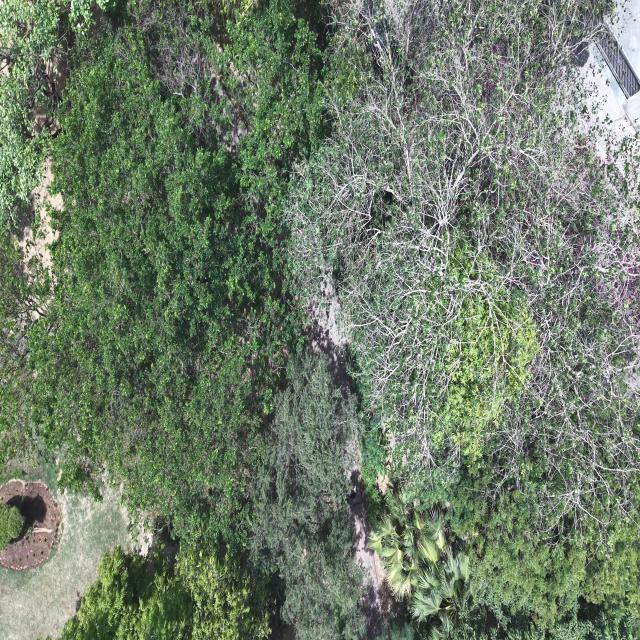DRY_AREA: (0, 467, 144, 639), (0, 468, 141, 639), (348, 467, 391, 639), (348, 468, 388, 639), (0, 479, 59, 570)
VEGETATION_TREE: (0, 0, 639, 639), (289, 0, 639, 629), (3, 2, 324, 637), (291, 3, 637, 533), (30, 7, 298, 536), (31, 27, 281, 535), (62, 355, 364, 639), (0, 0, 92, 469), (0, 0, 72, 469), (250, 354, 364, 639), (0, 0, 117, 230), (61, 547, 269, 639), (0, 0, 68, 235), (369, 491, 477, 638), (0, 231, 50, 476), (61, 547, 193, 639), (177, 548, 272, 639), (449, 605, 637, 639), (0, 503, 25, 551)
